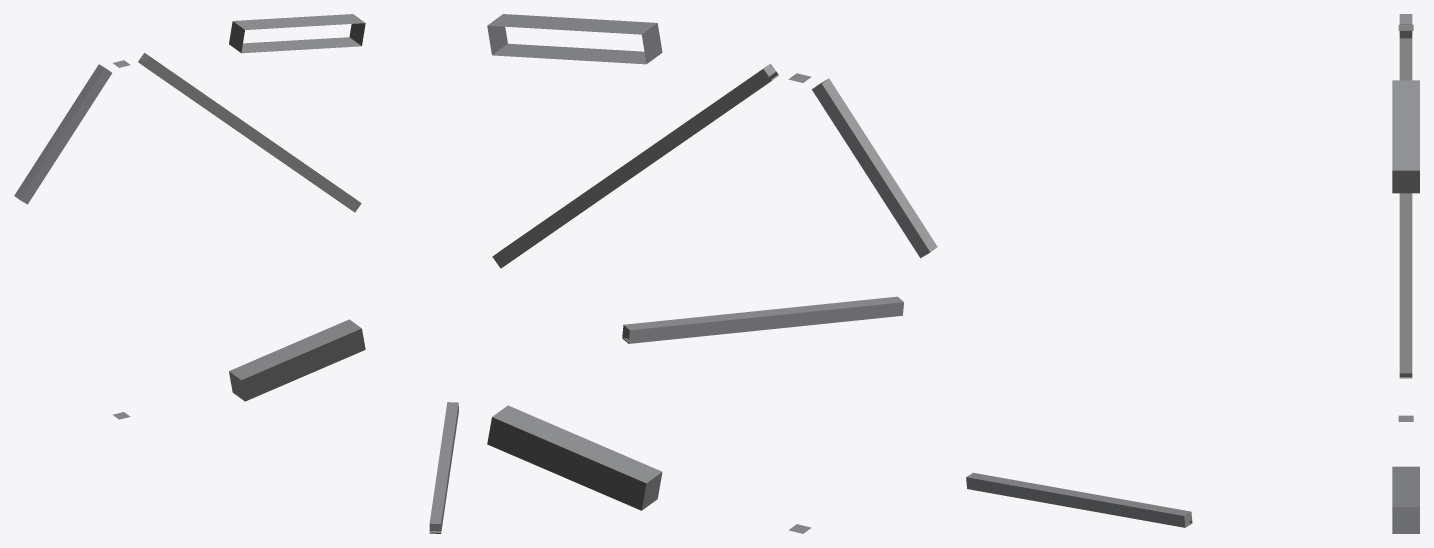
3 views of the same model, side by side, from view 1: azimuth 30°, elevation 25°; view 2: azimuth 150°, elevation 25°; view 3: azimuth 270°, elevation 25° (orthographic). The views are drawn at different scales.
Size of the model in its own units: 1.03 by 1.07 by 1.06.
